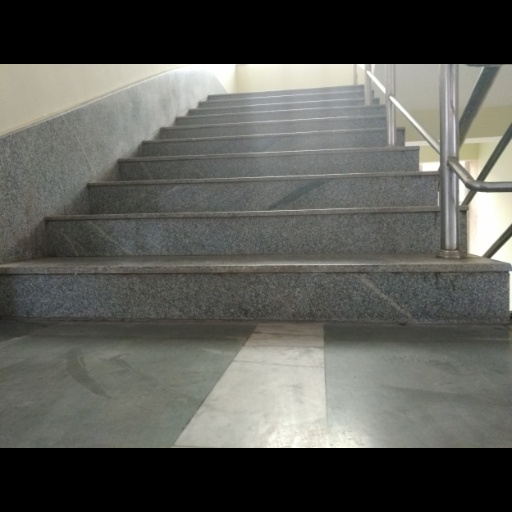Stairs: (0, 86, 508, 322)
